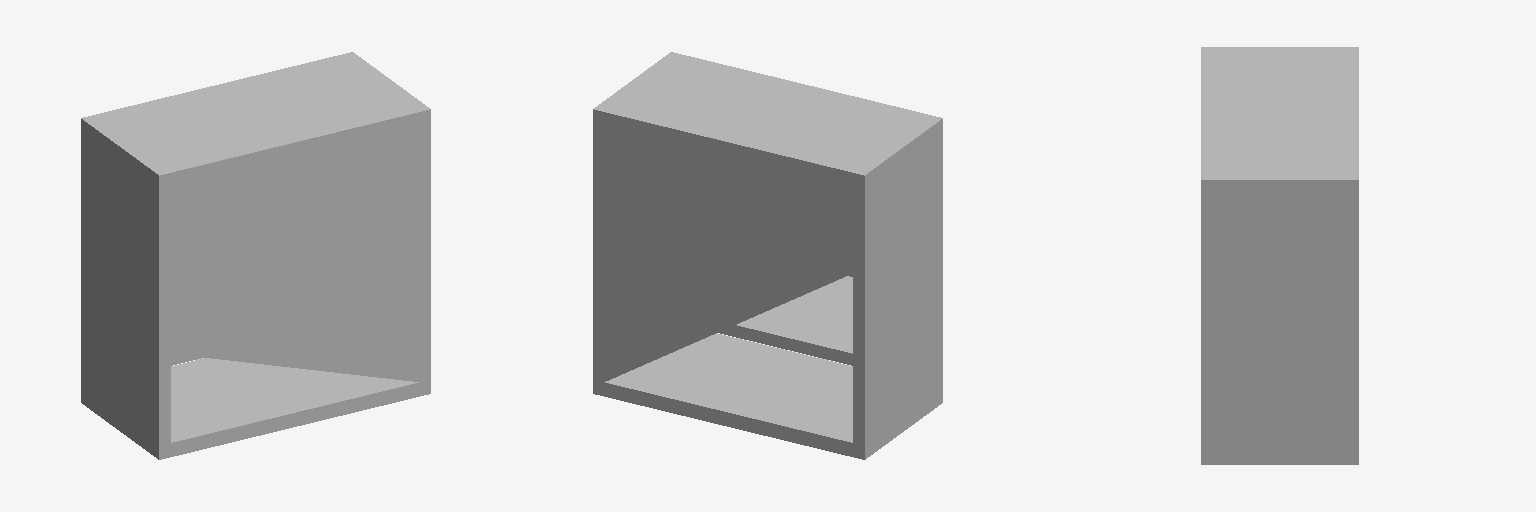
The model's file is Shelf.obj.
3 renders of one model, left to right at view 1: azimuth 30°, elevation 25°; view 2: azimuth 150°, elevation 25°; view 3: azimuth 270°, elevation 25°, orthographic.
Visible parts, largest first — view 1: shelf; view 2: shelf; view 3: shelf.
Boxes of the visible parts, <box> form: shelf: <box>81,52,430,459</box>; shelf: <box>593,52,942,459</box>; shelf: <box>1201,47,1358,464</box>.
Bounding box in the file's own units: 2 × 2 × 1.